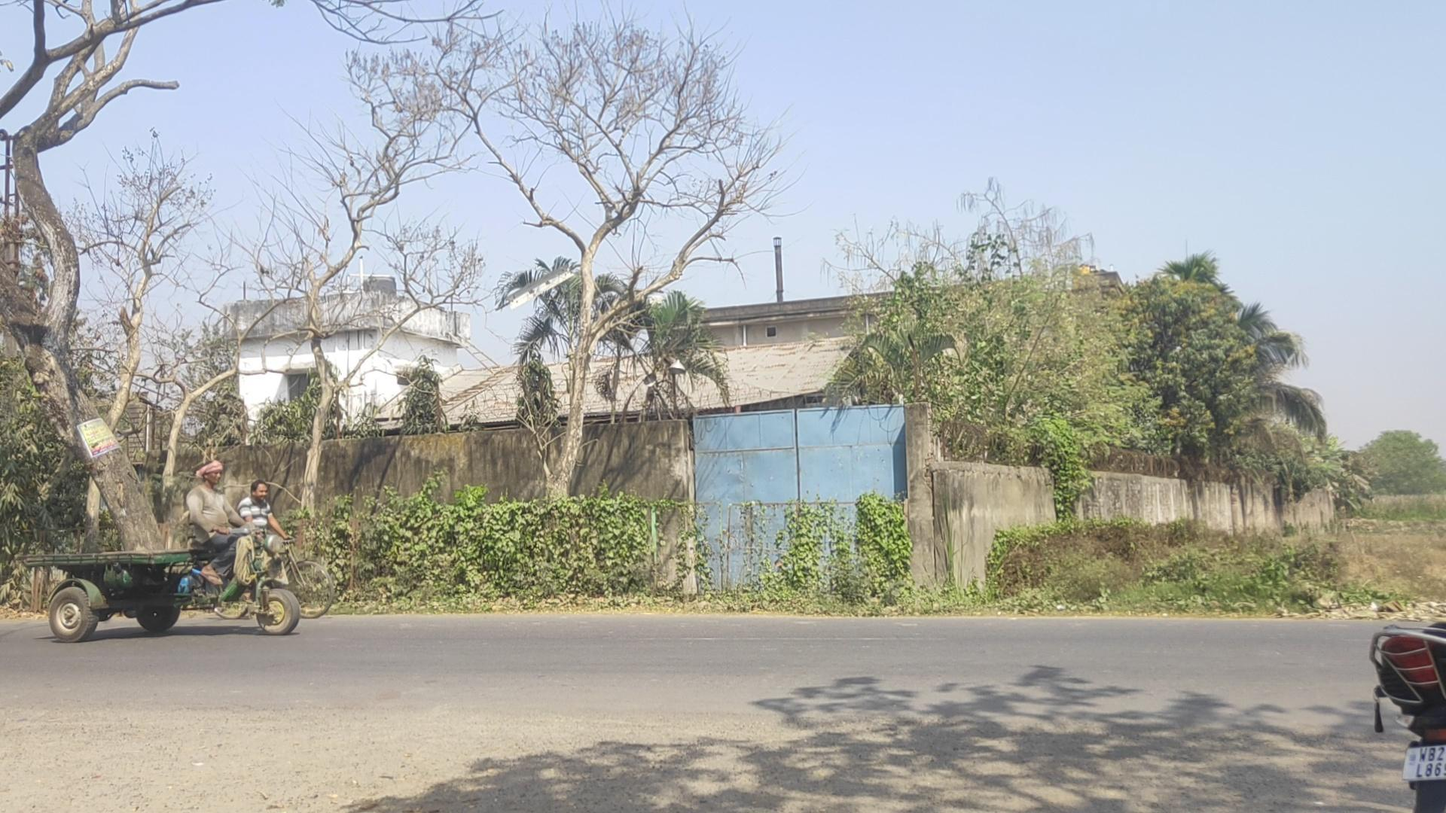bike: (208, 480, 335, 622)
